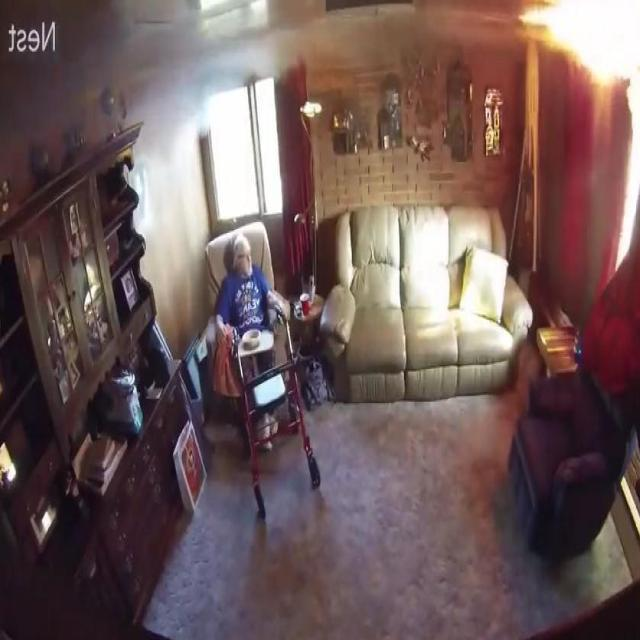smoke: (516, 0, 640, 86)
